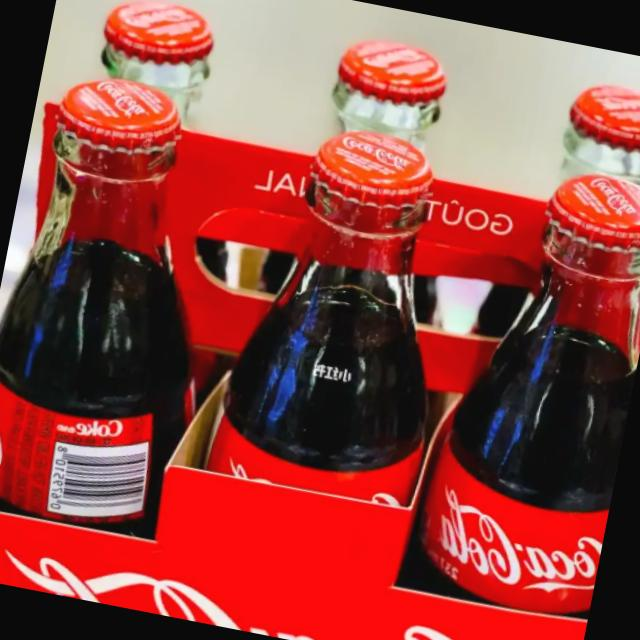bottle: (194, 104, 486, 515), (0, 63, 247, 545), (400, 157, 640, 627), (322, 30, 462, 150), (90, 0, 234, 99), (551, 77, 640, 192)
